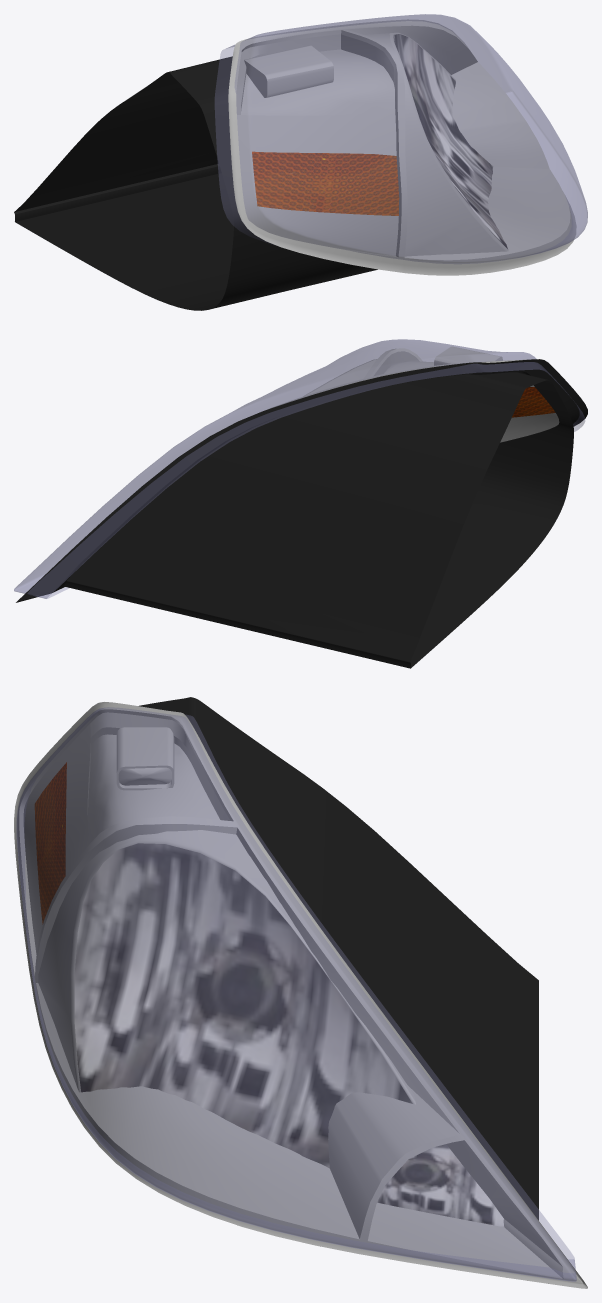
3 views of the same model, one above another, from view 1: azimuth 30°, elevation 25°; view 2: azimuth 150°, elevation 25°; view 3: azimuth 270°, elevation 25° (orthographic). The views are drawn at different scales.
Visible parts, largest first — view 1: Z020_061B_R_Z020_061B_R_6_DTaSI, Z020_061B_R_Z020_061B_R_3_DaS, Z020_061B_R_Z020_061B_R_4_D, Z020_061B_R_Z020_061B_R_5_N, Z020_061B_R_1_N_Z020_061B_R; view 2: Z020_061B_R_Z020_061B_R_4_D, Z020_061B_R_Z020_061B_R_6_DTaSI, Z020_061B_R_Z020_061B_R_3_DaS, Z020_061B_R_Z020_061B_R_5_N; view 3: Z020_061B_R_Z020_061B_R_6_DTaSI, Z020_061B_R_Z020_061B_R_3_DaS, Z020_061B_R_1_N_Z020_061B_R, Z020_061B_R_Z020_061B_R_4_D, Z020_061B_R_Z020_061B_R_2_N, Z020_061B_R_Z020_061B_R_5_N.
Part boxes in pixels (left/top/right/bottom): Z020_061B_R_Z020_061B_R_6_DTaSI: left=215, top=14, right=587, bottom=263; Z020_061B_R_Z020_061B_R_3_DaS: left=228, top=19, right=576, bottom=275; Z020_061B_R_Z020_061B_R_4_D: left=14, top=56, right=377, bottom=310; Z020_061B_R_Z020_061B_R_5_N: left=252, top=151, right=399, bottom=215; Z020_061B_R_1_N_Z020_061B_R: left=393, top=34, right=507, bottom=248; Z020_061B_R_Z020_061B_R_4_D: left=16, top=359, right=587, bottom=668; Z020_061B_R_Z020_061B_R_6_DTaSI: left=14, top=339, right=584, bottom=598; Z020_061B_R_Z020_061B_R_3_DaS: left=267, top=346, right=559, bottom=442; Z020_061B_R_Z020_061B_R_5_N: left=512, top=387, right=555, bottom=417; Z020_061B_R_Z020_061B_R_6_DTaSI: left=16, top=707, right=576, bottom=1281; Z020_061B_R_Z020_061B_R_3_DaS: left=14, top=702, right=587, bottom=1288; Z020_061B_R_1_N_Z020_061B_R: left=74, top=843, right=412, bottom=1167; Z020_061B_R_Z020_061B_R_4_D: left=139, top=697, right=538, bottom=1220; Z020_061B_R_Z020_061B_R_2_N: left=377, top=1144, right=503, bottom=1226; Z020_061B_R_Z020_061B_R_5_N: left=34, top=762, right=66, bottom=924.
Size of the model in its own units: 53.78 by 29.52 by 45.33.
